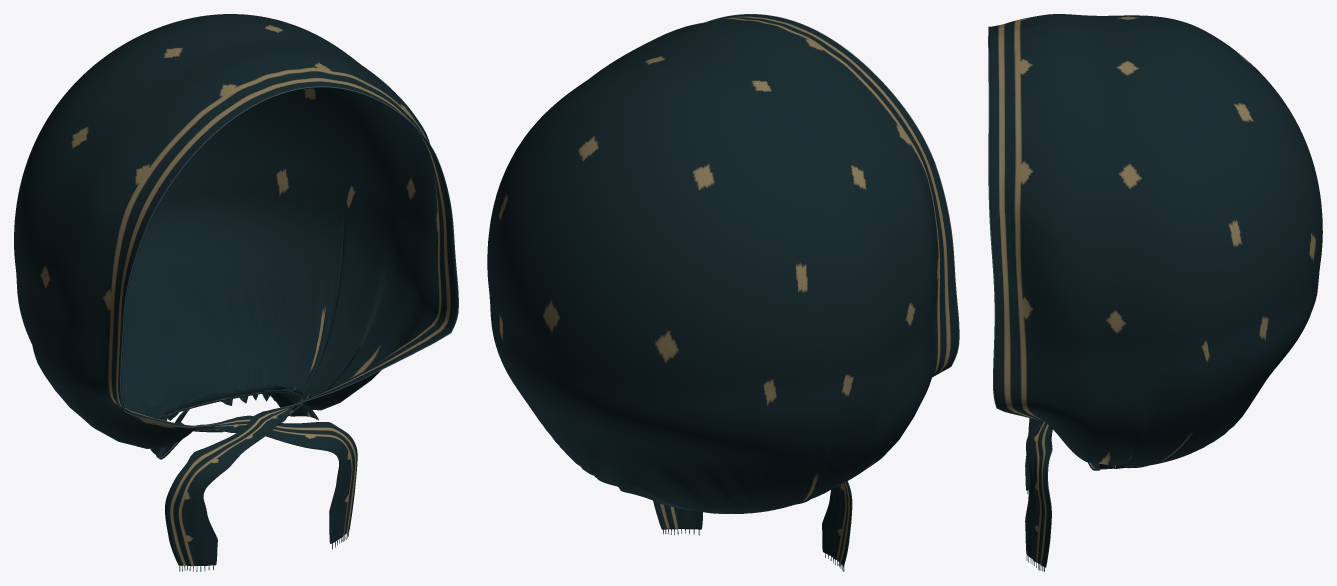
The model's file is Masculine-Masculine-flow-sweatshirt-pashmina250-headgear-7dc2ccd5.glb.
3 renders of one model, left to right at view 1: azimuth 30°, elevation 25°; view 2: azimuth 150°, elevation 25°; view 3: azimuth 270°, elevation 25°, orthographic. The views are drawn at different scales.
Parts seen in each view (by area): view 1: 226 headgear / Headwear / continuous woven pashmina239, 226 headgear / Headwear / face edge239; view 2: 226 headgear / Headwear / continuous woven pashmina239, 226 headgear / Headwear / face edge239; view 3: 226 headgear / Headwear / continuous woven pashmina239, 226 headgear / Headwear / face edge239.
Boxes of the visible parts, x1=… form: 226 headgear / Headwear / continuous woven pashmina239: x1=14, y1=14, x2=457, y2=566; 226 headgear / Headwear / face edge239: x1=120, y1=86, x2=458, y2=427; 226 headgear / Headwear / continuous woven pashmina239: x1=487, y1=14, x2=958, y2=566; 226 headgear / Headwear / face edge239: x1=706, y1=14, x2=959, y2=376; 226 headgear / Headwear / continuous woven pashmina239: x1=989, y1=14, x2=1322, y2=567; 226 headgear / Headwear / face edge239: x1=988, y1=26, x2=1042, y2=420.
Size of the model in its own units: 1.1 by 1.42 by 0.8633.
3 materials, 1 textured.
